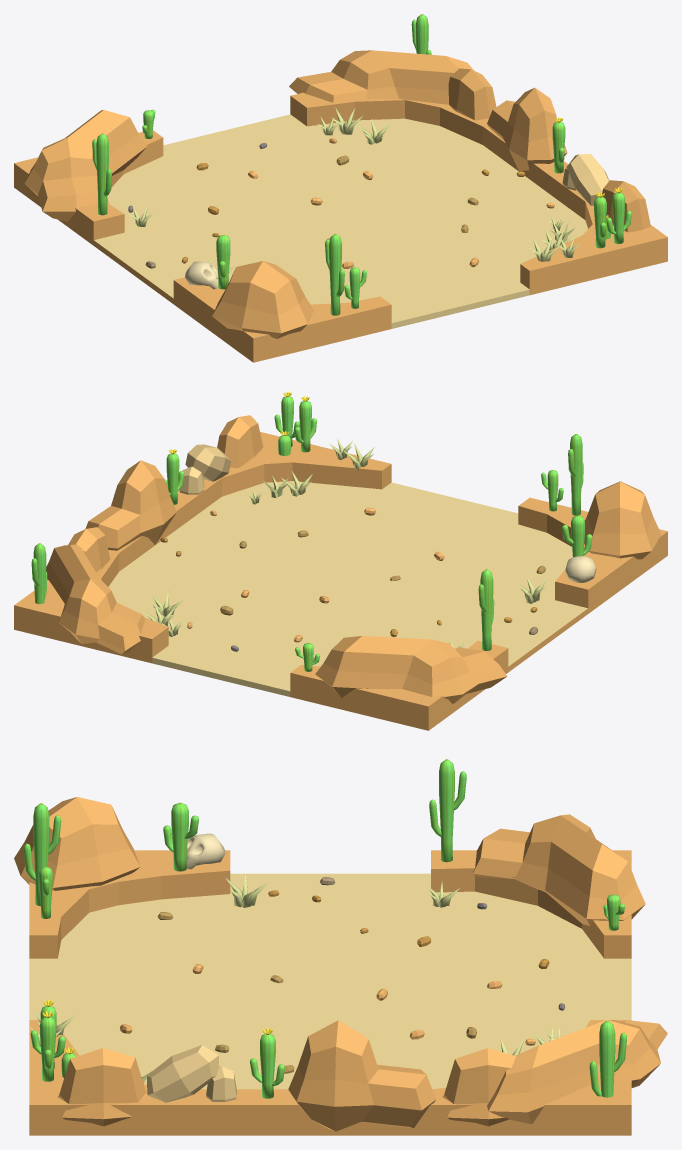
The model's file is desert level set - 3 Way (1).fbx.
3 views of the same model, one above another, from view 1: azimuth 30°, elevation 25°; view 2: azimuth 150°, elevation 25°; view 3: azimuth 270°, elevation 25° (orthographic). The views are drawn at different scales.
Visible parts, largest first — view 1: land_platform_001, Cube_004, Cube_008, Cube_005, Cube_009, Cube_006, Cube_007, Cube_000, CACTUS_002, CACTUS_008, CACTUS_001, skull_bone (+5 smaller); view 2: land_platform_001, Cube_004, Cube_008, Cube_009, Cube_005, Cube_000, Cube_007, Cube_006, CACTUS_008, CACTUS_002, CACTUS_009, CACTUS_005 (+5 smaller); view 3: land_platform_001, Cube_004, Cube_009, Cube_008, Cube_005, Cube_000, Cube_007, Cube_006, CACTUS_008, CACTUS_002, CACTUS_009, CACTUS_006 (+5 smaller).
Boxes of the visible parts, left/top/right/bottom form: land_platform_001: left=14, top=92, right=667, bottom=362; Cube_004: left=24, top=110, right=146, bottom=221; Cube_008: left=289, top=50, right=473, bottom=104; Cube_005: left=212, top=261, right=313, bottom=338; Cube_009: left=487, top=87, right=567, bottom=171; Cube_006: left=448, top=68, right=496, bottom=120; Cube_007: left=562, top=154, right=609, bottom=205; Cube_000: left=602, top=180, right=650, bottom=232; CACTUS_002: left=325, top=234, right=344, bottom=315; CACTUS_008: left=92, top=133, right=111, bottom=215; CACTUS_001: left=606, top=187, right=631, bottom=243; skull_bone: left=185, top=261, right=218, bottom=289; land_platform_001: left=14, top=432, right=667, bottom=730; Cube_004: left=315, top=636, right=507, bottom=703; Cube_008: left=46, top=544, right=144, bottom=654; Cube_009: left=85, top=460, right=176, bottom=550; Cube_005: left=584, top=481, right=661, bottom=559; Cube_000: left=217, top=415, right=263, bottom=468; Cube_007: left=179, top=444, right=230, bottom=494; Cube_006: left=68, top=527, right=110, bottom=573; CACTUS_008: left=478, top=569, right=494, bottom=650; CACTUS_002: left=568, top=434, right=583, bottom=515; CACTUS_009: left=31, top=543, right=47, bottom=604; CACTUS_005: left=294, top=396, right=316, bottom=452; land_platform_001: left=29, top=850, right=631, bottom=1135; Cube_004: left=472, top=814, right=645, bottom=926; Cube_009: left=288, top=1020, right=436, bottom=1131; Cube_008: left=487, top=1020, right=667, bottom=1124; Cube_005: left=14, top=797, right=140, bottom=890; Cube_000: left=58, top=1048, right=147, bottom=1126; Cube_007: left=147, top=1045, right=237, bottom=1102; Cube_006: left=442, top=1048, right=515, bottom=1126; CACTUS_008: left=429, top=759, right=466, bottom=862; CACTUS_002: left=23, top=803, right=61, bottom=906; CACTUS_009: left=589, top=1021, right=626, bottom=1097; CACTUS_006: left=163, top=802, right=198, bottom=871.
Size of the model in its own units: 16.66 by 3.7 by 16.47.
